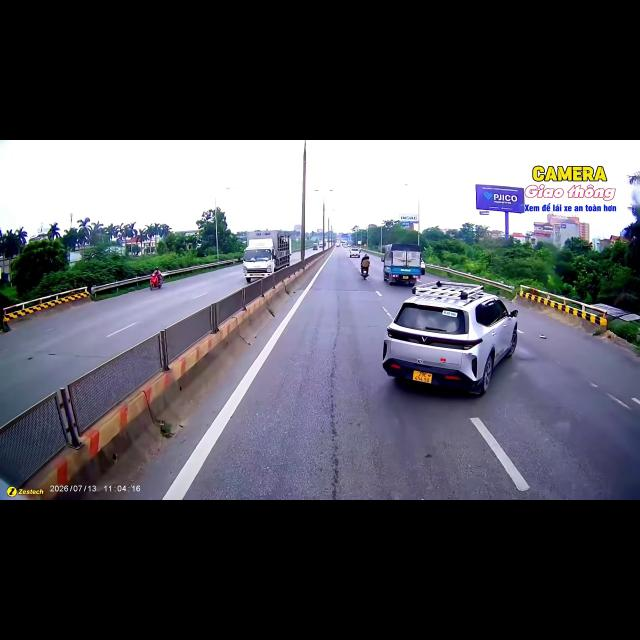car: (383, 281, 517, 395), (349, 248, 360, 257), (421, 260, 425, 275), (313, 244, 318, 249), (336, 243, 340, 247)
motorcycle: (150, 275, 163, 290), (361, 269, 368, 279)
truck: (243, 231, 291, 282), (386, 244, 420, 286)
